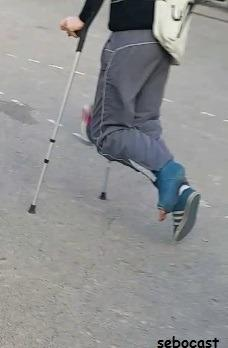crutches: (28, 1, 201, 242)
